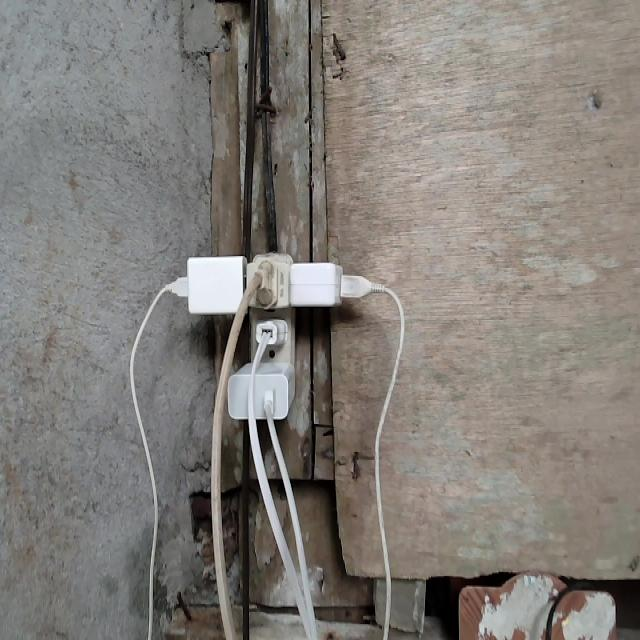-: (164, 252, 375, 420)
